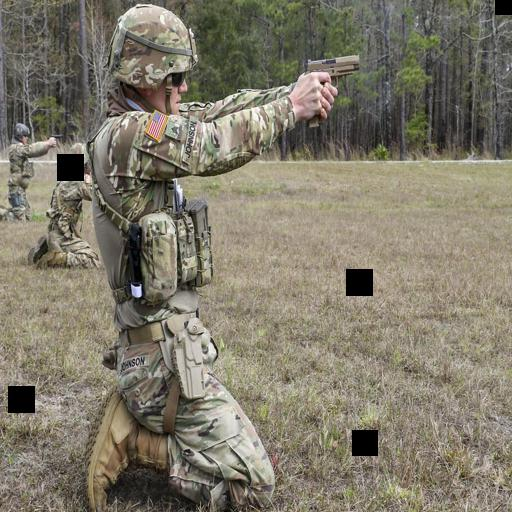Handgun: (300, 47, 361, 125)
